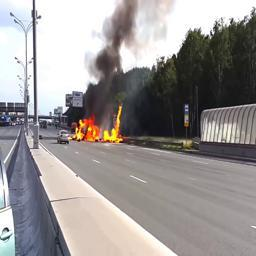fire: (73, 104, 124, 142)
